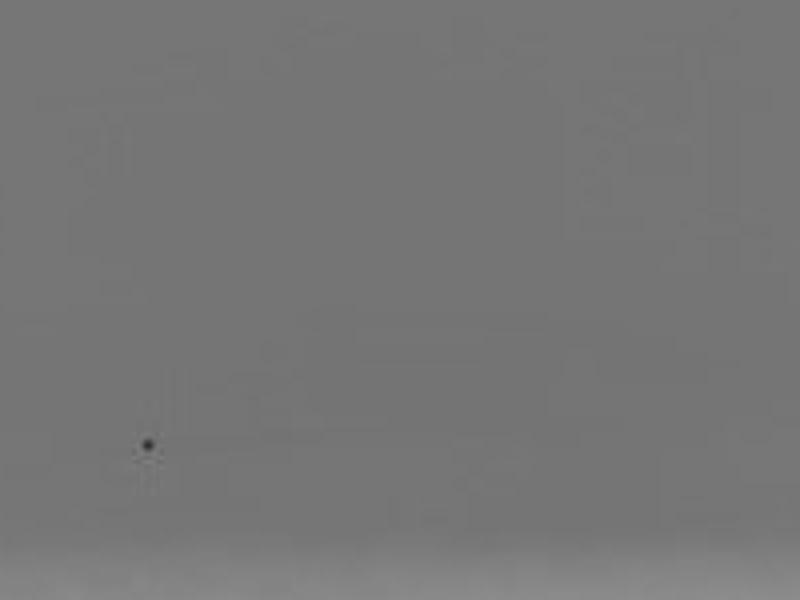defect: (139, 435, 159, 455)
